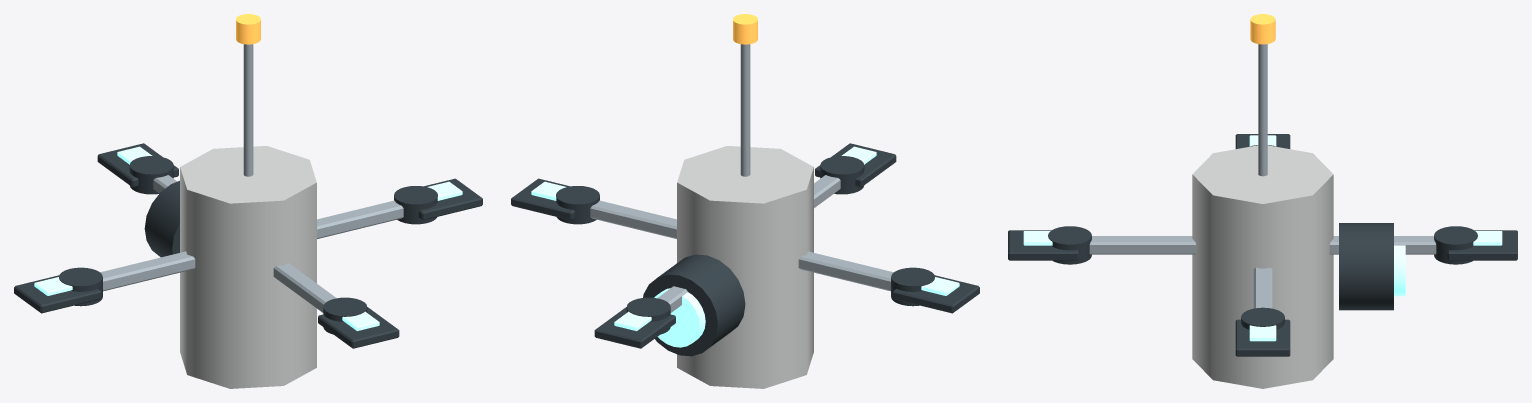
The model's file is micro_probe.glb.
3 views of the same model, side by side, from view 1: azimuth 30°, elevation 25°; view 2: azimuth 150°, elevation 25°; view 3: azimuth 270°, elevation 25° (orthographic).
Parts seen in each view (by area): view 1: instrument_body, sensor_leaf (×4), folding_arm (×3), hinge (×4), optic_housing, antenna, sensor_light (×2), antenna_tip; view 2: instrument_body, sensor_leaf (×4), optic_housing, folding_arm (×4), hinge (×4), probe_eye, antenna, sensor_light (×2), antenna_tip; view 3: instrument_body, optic_housing, sensor_leaf (×4), folding_arm (×3), hinge (×3), antenna, antenna_tip, probe_eye, sensor_light.
Boxes of the visible parts, bbox=[...] form: instrument_body: bbox=[180, 146, 316, 388]; sensor_leaf (×4): bbox=[14, 143, 482, 348]; folding_arm (×3): bbox=[100, 200, 403, 312]; hinge (×4): bbox=[59, 156, 437, 334]; optic_housing: bbox=[144, 180, 179, 257]; antenna: bbox=[243, 44, 253, 176]; sensor_light (×2): bbox=[34, 277, 379, 330]; antenna_tip: bbox=[236, 14, 260, 44]; instrument_body: bbox=[677, 146, 813, 388]; sensor_leaf (×4): bbox=[511, 143, 979, 348]; optic_housing: bbox=[643, 254, 745, 356]; folding_arm (×4): bbox=[590, 175, 893, 312]; hinge (×4): bbox=[556, 156, 934, 334]; probe_eye: bbox=[654, 288, 705, 347]; antenna: bbox=[740, 44, 750, 176]; sensor_light (×2): bbox=[614, 277, 959, 330]; antenna_tip: bbox=[733, 14, 757, 44]; instrument_body: bbox=[1192, 145, 1333, 388]; optic_housing: bbox=[1339, 223, 1393, 310]; sensor_leaf (×4): bbox=[1008, 134, 1517, 356]; folding_arm (×3): bbox=[1089, 236, 1436, 308]; hinge (×3): bbox=[1048, 226, 1477, 329]; antenna: bbox=[1258, 44, 1267, 176]; antenna_tip: bbox=[1250, 14, 1275, 44]; probe_eye: bbox=[1394, 245, 1405, 296]; sensor_light: bbox=[1249, 325, 1276, 341].
Size of the model in its own units: 0.325 by 0.239 by 0.325.
